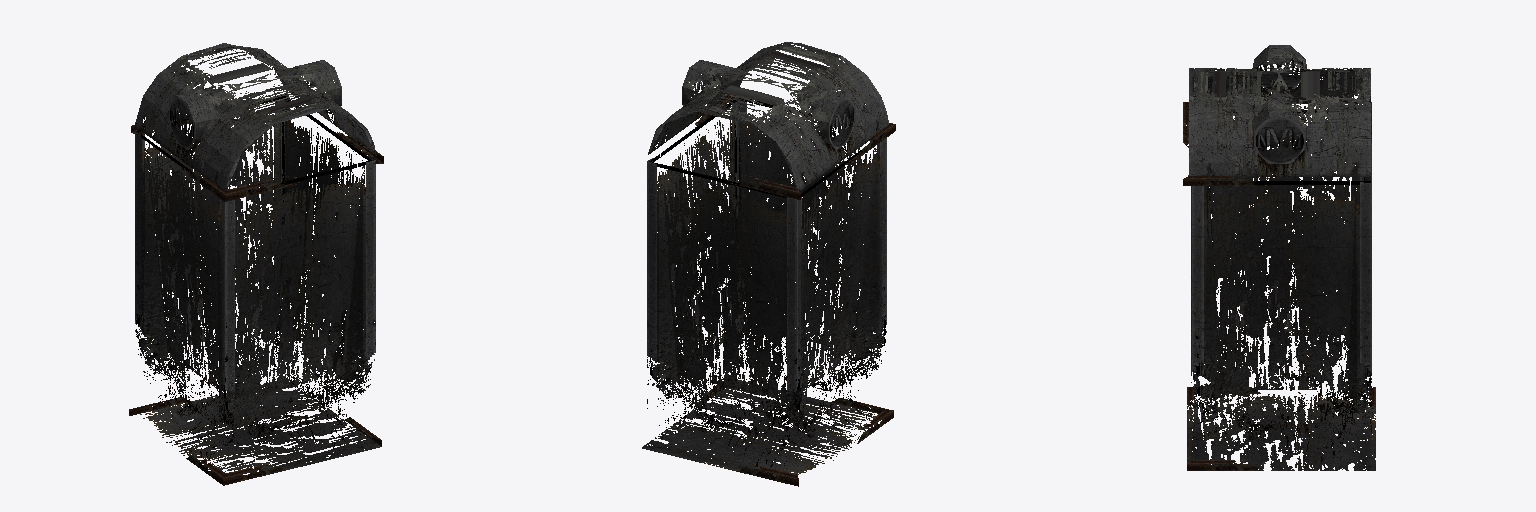
3 views of the same model, side by side, from view 1: azimuth 30°, elevation 25°; view 2: azimuth 150°, elevation 25°; view 3: azimuth 270°, elevation 25° (orthographic).
Bounding box in the file's own units: 0.6162 × 1.31 × 0.6516.
1 materials, 1 textured.